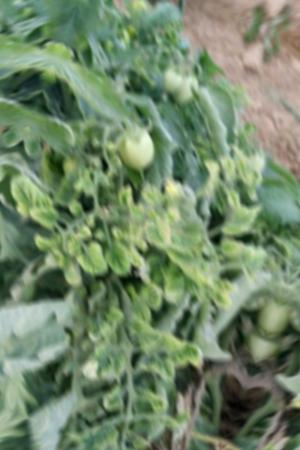Tomato leaf yellow virus: (167, 244, 236, 303), (0, 164, 55, 225), (68, 238, 125, 288), (76, 332, 122, 392), (220, 193, 270, 246), (131, 209, 184, 254), (164, 332, 214, 377), (95, 236, 142, 282), (128, 278, 172, 326), (29, 198, 70, 238), (234, 240, 271, 283), (133, 322, 168, 353)
